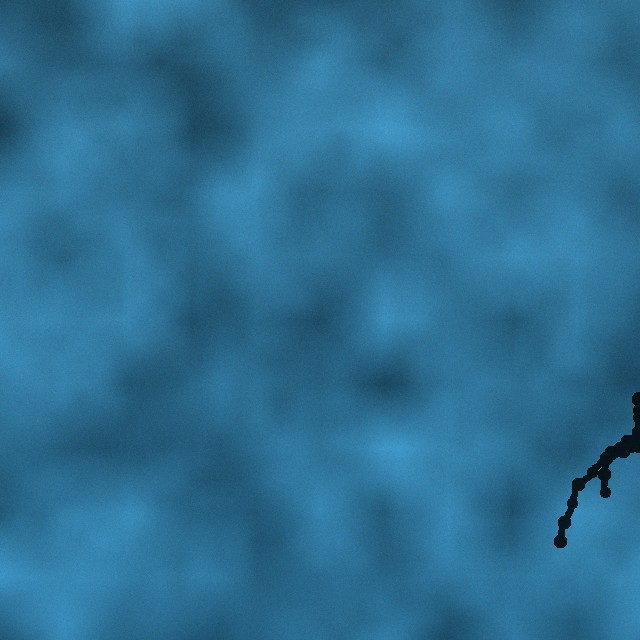crack: (554, 426, 639, 547), (597, 388, 639, 498)
